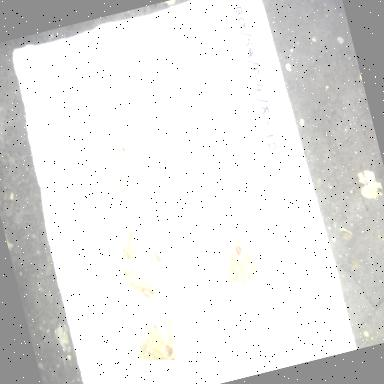abw: (121, 297, 200, 384), (208, 208, 276, 296), (106, 196, 170, 282), (98, 135, 153, 207), (116, 254, 167, 310)
